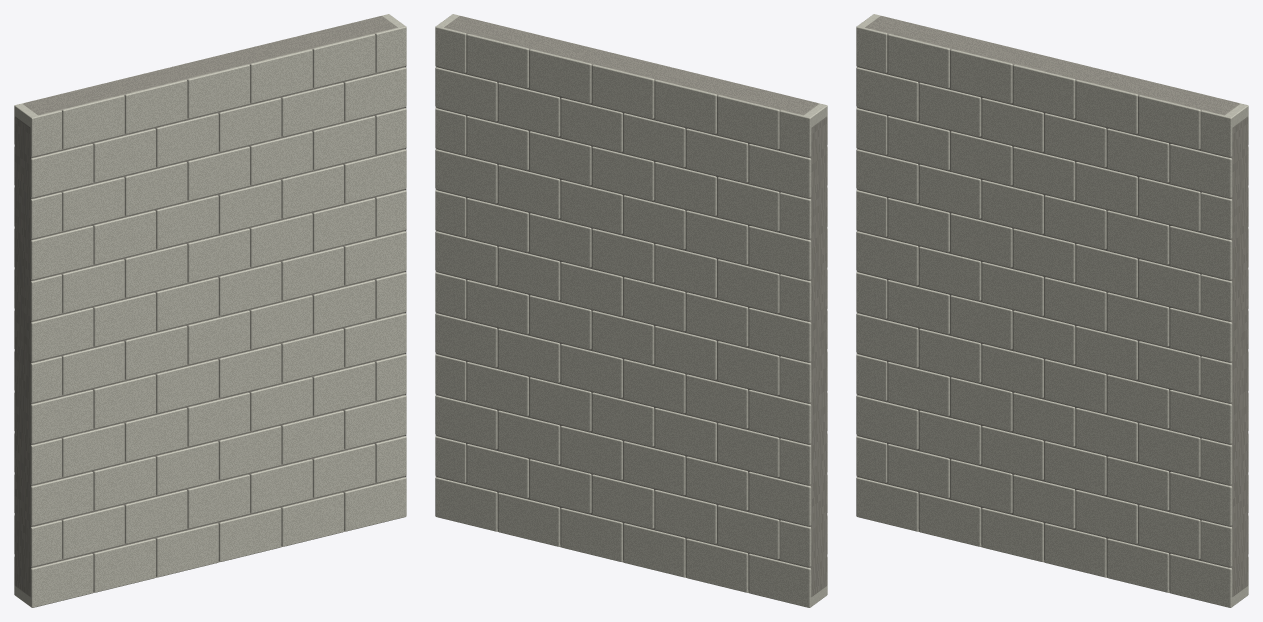
File: blockwall.glb
3 views of the same model, side by side, from view 1: azimuth 30°, elevation 25°; view 2: azimuth 150°, elevation 25°; view 3: azimuth 330°, elevation 25° (orthographic).
Parts seen in each view (by area): view 1: painted-block (×78), mortar; view 2: painted-block (×78), mortar; view 3: painted-block (×78), mortar.
Part boxes in pixels (x1,y1,x2,y2): painted-block (×78): (14,14,406,607); mortar: (14,16,406,596); painted-block (×78): (435,14,827,607); mortar: (435,16,827,596); painted-block (×78): (856,14,1248,607); mortar: (856,16,1248,596).
Bounding box in the file's own units: 2.4 × 3 × 0.2.
2 materials, 2 textured.
